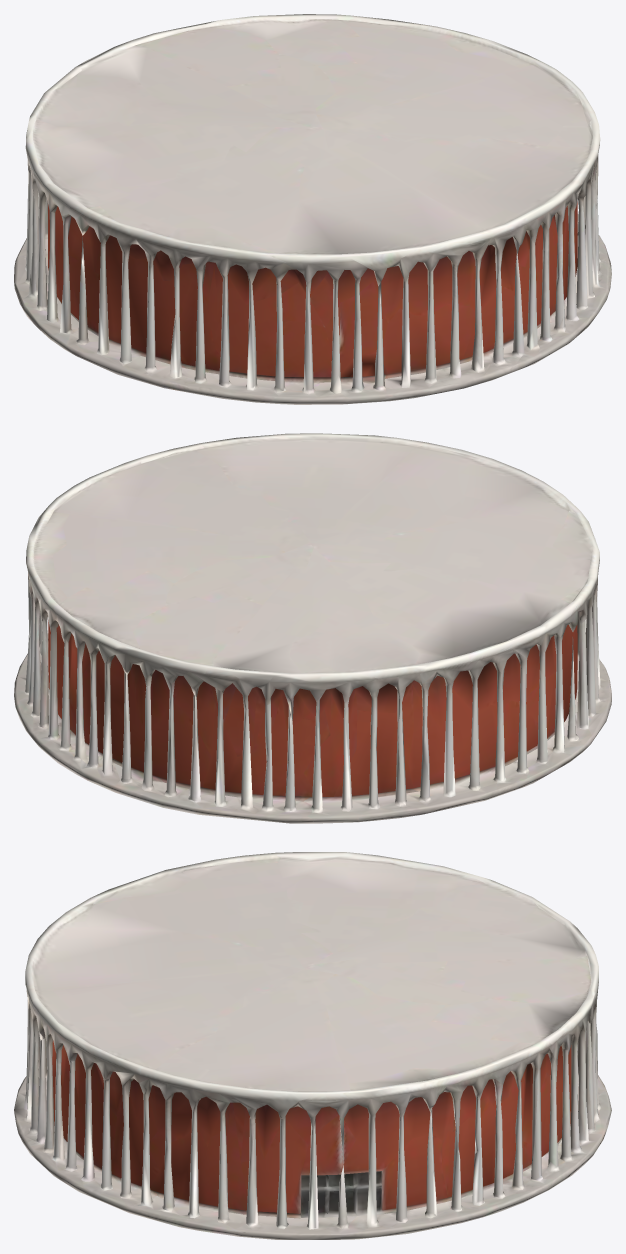
Rendered from lm_forum.glb.
3 views of the same model, one above another, from view 1: azimuth 30°, elevation 25°; view 2: azimuth 150°, elevation 25°; view 3: azimuth 270°, elevation 25° (orthographic).
Parts seen in each view (by area): view 1: tripo_node_20a6af37-c4f5-46d5-a822-8beb8e5cd7f1; view 2: tripo_node_20a6af37-c4f5-46d5-a822-8beb8e5cd7f1; view 3: tripo_node_20a6af37-c4f5-46d5-a822-8beb8e5cd7f1.
Part boxes in pixels (left/top/right/bottom): tripo_node_20a6af37-c4f5-46d5-a822-8beb8e5cd7f1: left=14, top=14, right=611, bottom=404; tripo_node_20a6af37-c4f5-46d5-a822-8beb8e5cd7f1: left=14, top=433, right=611, bottom=823; tripo_node_20a6af37-c4f5-46d5-a822-8beb8e5cd7f1: left=14, top=852, right=611, bottom=1239.
Bounding box in the file's own units: 0.9976 × 0.2769 × 0.9997.
Materials: 1 (1 with a texture image).
